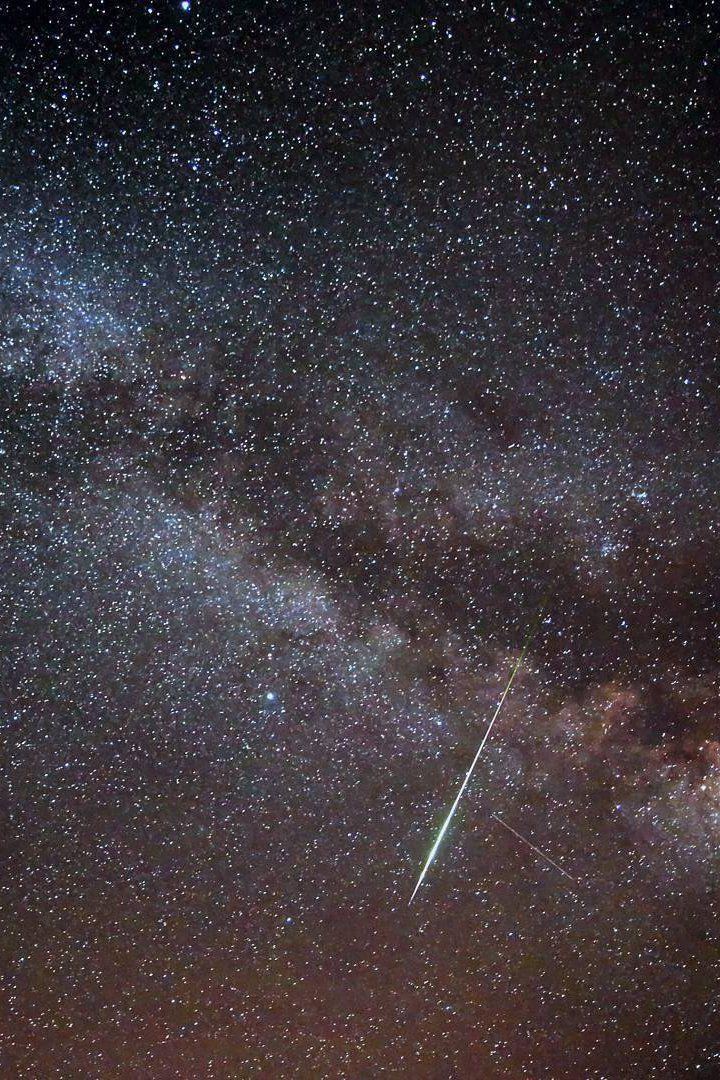meteor: (390, 868, 442, 917)
